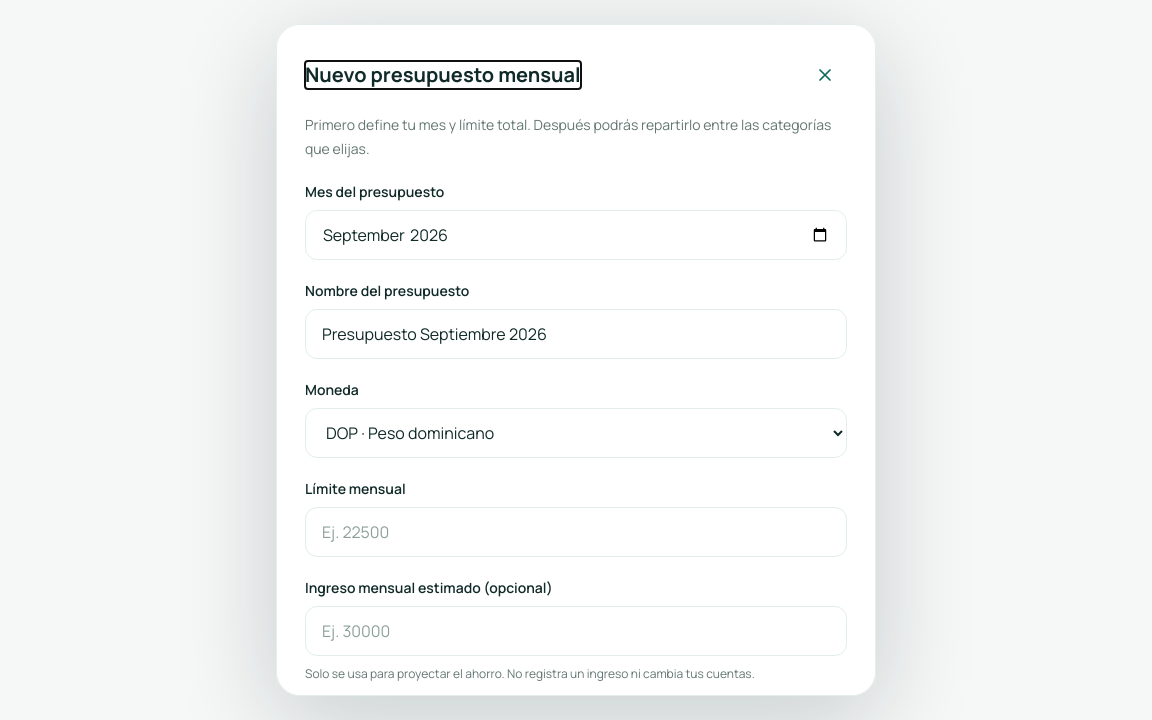
Test: monthly creation starts without allocations and names the selected month
The image size is (1152, 720).
Replace the text in the field labelled "Mes del presupuesto" with "2026-10" at x=576, y=235, box x1=305 y1=210 x2=847 y2=260
(page scrolled)
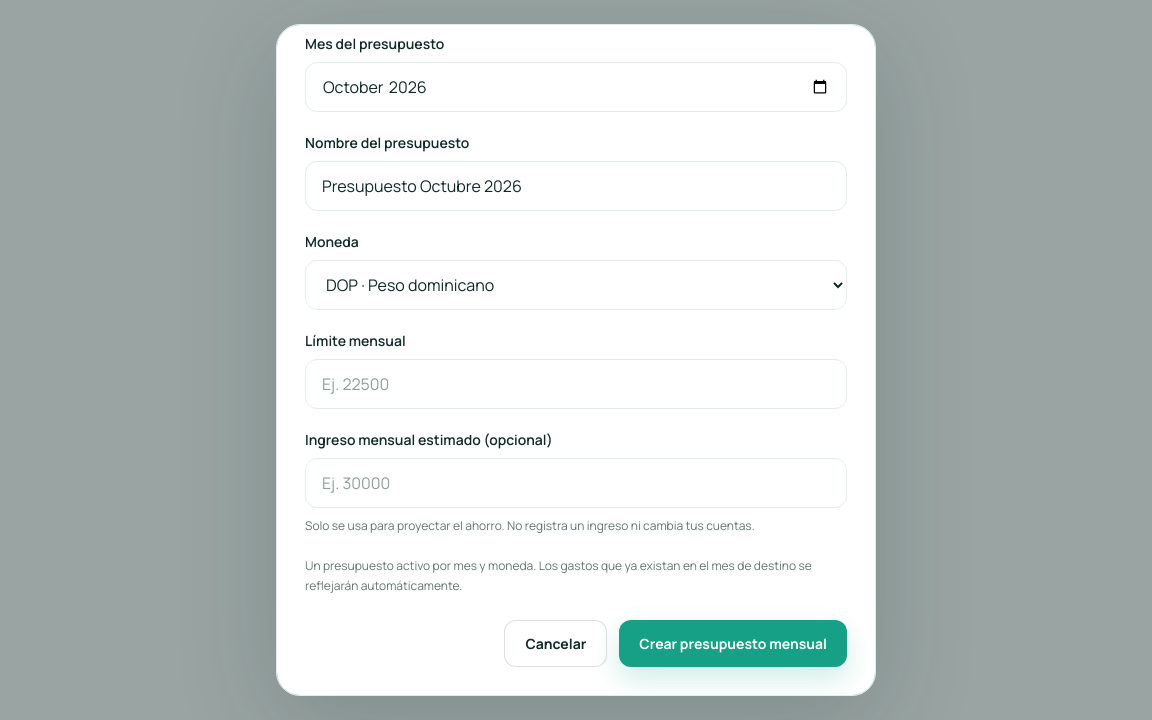
expect the field labelled "Nombre del presupuesto" holds "Presupuesto Octubre 2026": met, box x1=305 y1=161 x2=847 y2=211
expect the button "Crear presupuesto mensual" is shown: met, box x1=619 y1=620 x2=847 y2=667
